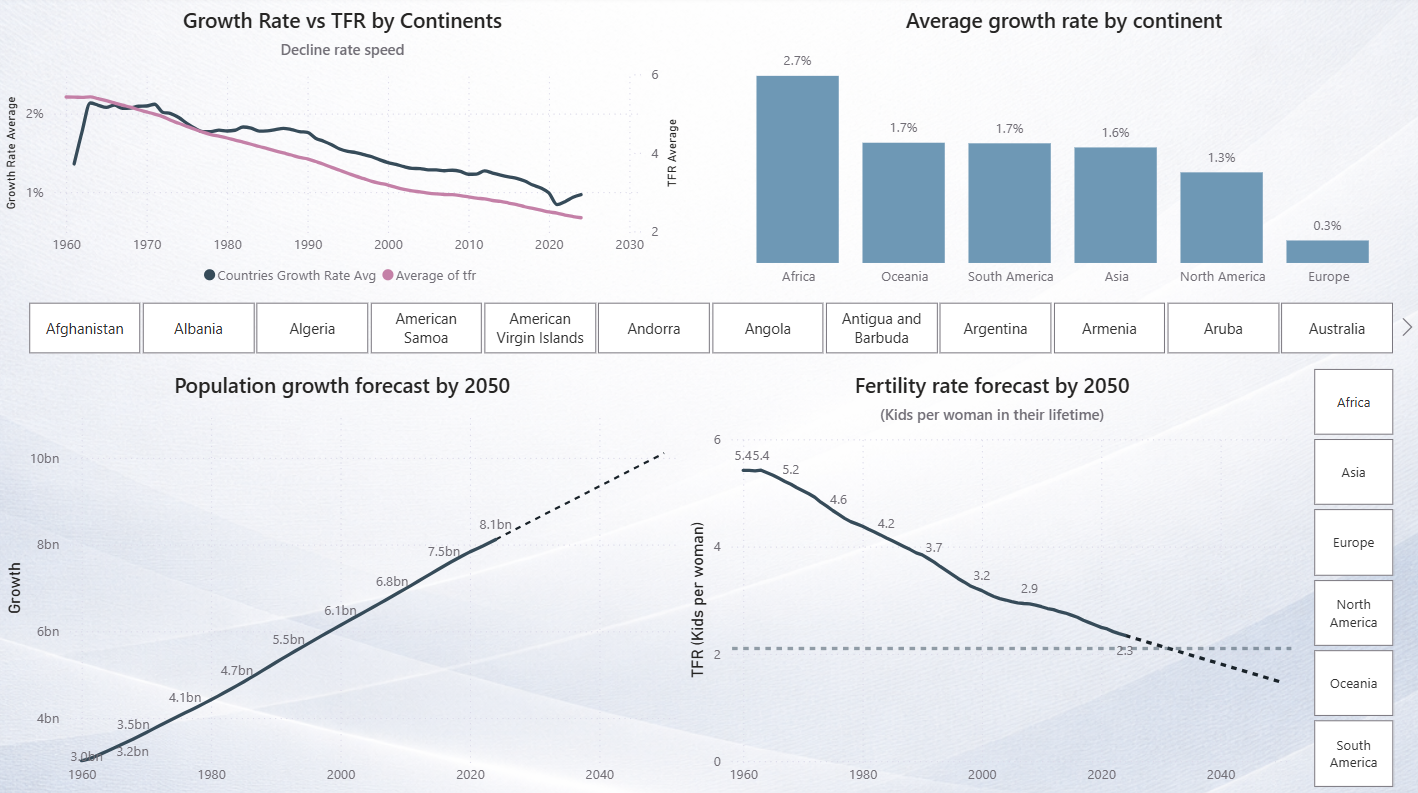

This screenshot's page, from the dashboard's own definition file:
{"tool":"powerbi","page":{"name":"Population growth forecasting","canvas":[1280,720],"ordinal":3},"visuals":[{"type":"slicer","fields":{"Values":["world_population dim_countries.continent"]},"box":[1158.1,329.6,121.9,390.6],"z":0},{"type":"lineChart","title":"Fertility rate forecast by 2050","fields":{"Category":["world_population dim_year.year_record"],"Y":["Avg(world_population fact_fertility_rate.tfr)"]},"box":[617,329.6,556,390.6],"z":1000},{"type":"slicer","fields":{"Values":["world_population dim_countries.country_name"]},"box":[0,269.9,1280,59.7],"z":2000},{"type":"lineChart","title":"Population growth forecast by 2050","fields":{"Category":["world_population dim_year.year_record"],"Y":["Sum(world_population fact_population.population_count)"]},"box":[0,329.6,617,390.6],"z":3000},{"type":"clusteredColumnChart","title":"Average growth rate by continent","fields":{"Y":["_Measures_.Continent Avg Growth Rate"],"Category":["world_population dim_countries.continent"]},"box":[639.5,0,640.8,270.3],"z":4000},{"type":"lineChart","title":"Growth Rate vs TFR by Continents","fields":{"Category":["world_population dim_year.year_record"],"Y2":["Avg(world_population fact_fertility_rate.tfr)"],"Y":["_Measures_.Countries Growth Rate Avg"]},"box":[0,0,617.5,270],"z":5000}]}

Visuals, with their boxes in screenshot pixels (x1, y1, x2, y2), scaled from the page's 1280x720 canvas onto the 1418x793 screenshot:
slicer - world_population dim_countries.continent: l=1283, t=363, r=1417, b=792
"Fertility rate forecast by 2050" lineChart: l=684, t=363, r=1299, b=792
slicer - world_population dim_countries.country_name: l=0, t=297, r=1417, b=363
"Population growth forecast by 2050" lineChart: l=0, t=363, r=684, b=792
"Average growth rate by continent" clusteredColumnChart: l=708, t=0, r=1417, b=298
"Growth Rate vs TFR by Continents" lineChart: l=0, t=0, r=684, b=297
